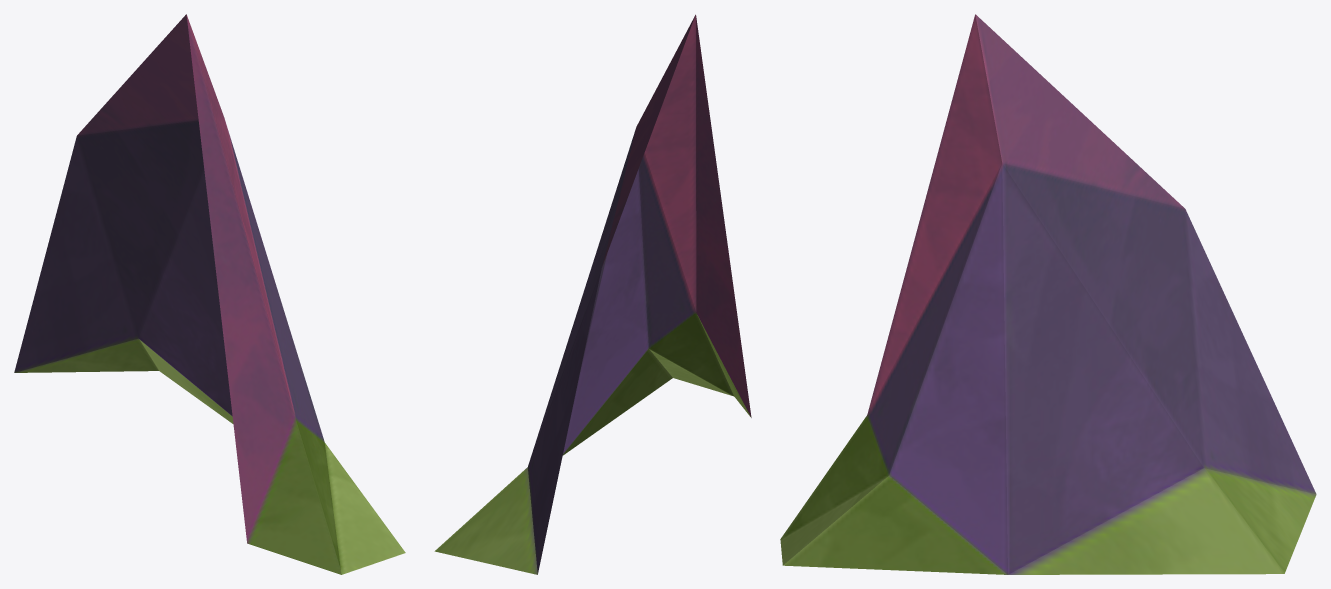
File: wall_crys_deco_A.fbx
3 renders of one model, left to right at view 1: azimuth 30°, elevation 25°; view 2: azimuth 150°, elevation 25°; view 3: azimuth 270°, elevation 25°, orthographic. The views are drawn at different scales.
Visible parts, largest first — view 1: wall_crys_deco_A; view 2: wall_crys_deco_A; view 3: wall_crys_deco_A.
Boxes of the visible parts, left/top/right/bottom form: wall_crys_deco_A: left=14, top=14, right=405, bottom=574; wall_crys_deco_A: left=434, top=14, right=751, bottom=574; wall_crys_deco_A: left=780, top=14, right=1316, bottom=574.
Size of the model in its own units: 0.5574 by 2 by 1.95.
